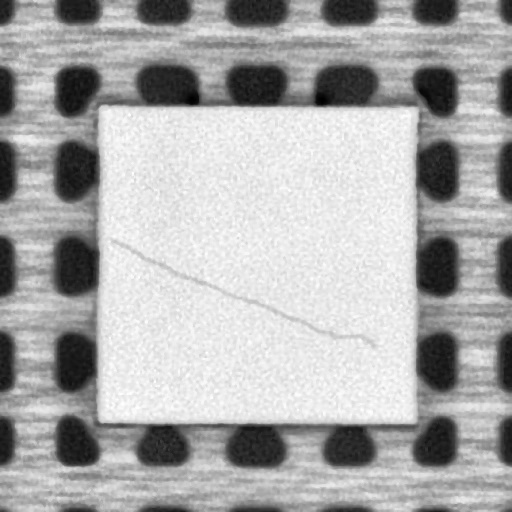DIE_CRACK: (112, 238, 376, 350)
